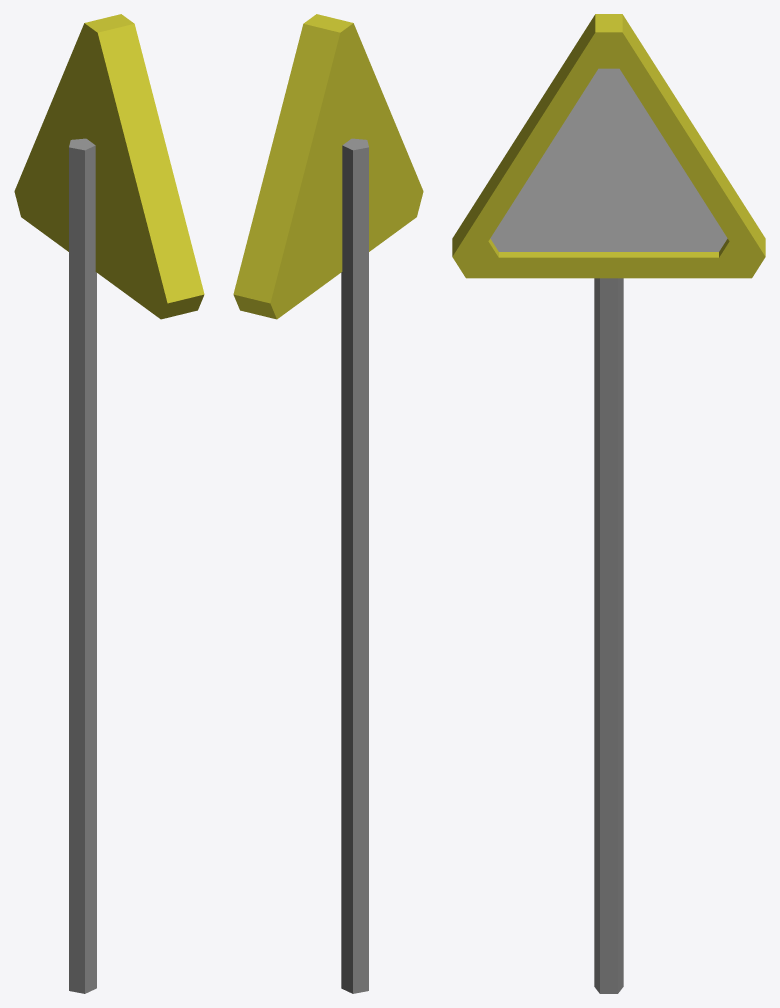
File: q-street-sign-triangle.glb
The picture shows the model from 3 angles, left to right: view 1: azimuth 30°, elevation 25°; view 2: azimuth 150°, elevation 25°; view 3: azimuth 270°, elevation 25°; orthographic projection. The views are drawn at different scales.
Visible parts, largest first — view 1: Yellow, Pole.001; view 2: Yellow, Pole.001; view 3: Yellow, White.001, Pole.001.
Part boxes in pixels (x1,y1,x2,y2): Yellow: (14,14,204,319); Pole.001: (69,138,96,993); Yellow: (233,14,423,319); Pole.001: (341,138,368,993); Yellow: (452,14,765,278); White.001: (490,68,727,251); Pole.001: (594,278,623,993).
Bounding box in the file's own units: 0.0345 × 0.5344 × 0.1549.
